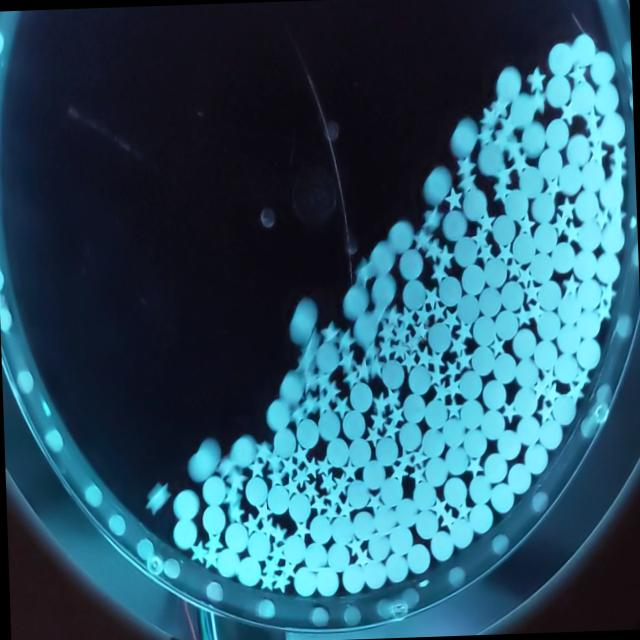disco blanco: (186, 436, 218, 482), (289, 295, 320, 340), (449, 117, 482, 158), (520, 120, 548, 158), (438, 207, 468, 242), (424, 165, 452, 202), (546, 40, 576, 74), (278, 369, 304, 407), (341, 284, 368, 320), (264, 394, 290, 431), (379, 356, 406, 391), (352, 312, 378, 348), (172, 516, 202, 547), (544, 74, 571, 108), (538, 146, 566, 178), (370, 240, 396, 274), (398, 245, 424, 279), (496, 66, 522, 100), (543, 118, 570, 150), (397, 419, 424, 451), (508, 92, 534, 125), (388, 216, 413, 250), (437, 272, 462, 306), (476, 144, 501, 178), (400, 278, 428, 308), (371, 272, 397, 304), (404, 365, 432, 394), (482, 256, 508, 287), (478, 283, 502, 316), (315, 342, 341, 372), (480, 410, 506, 440), (360, 460, 386, 490), (231, 434, 255, 466), (539, 417, 562, 450), (461, 264, 486, 294), (424, 398, 449, 428), (223, 521, 248, 551), (348, 381, 372, 412), (174, 487, 198, 518), (516, 415, 540, 446), (200, 474, 223, 506), (246, 532, 272, 560), (494, 310, 518, 340), (286, 494, 310, 524), (402, 392, 424, 424), (272, 429, 296, 458), (516, 359, 539, 389), (204, 504, 226, 534), (218, 548, 240, 578), (297, 416, 317, 448), (344, 409, 364, 440), (332, 516, 354, 544)
estrella blanca: (144, 480, 170, 514), (334, 342, 360, 372), (334, 324, 358, 353), (524, 64, 546, 94), (318, 318, 340, 346), (202, 528, 224, 556), (542, 170, 564, 198), (422, 204, 446, 229), (514, 210, 536, 237), (454, 154, 478, 178), (518, 278, 540, 304), (457, 170, 478, 197), (490, 92, 510, 120), (476, 206, 496, 234), (340, 456, 360, 484), (455, 317, 475, 344), (424, 237, 446, 261), (566, 61, 587, 86), (454, 346, 474, 372), (555, 195, 575, 221), (429, 258, 448, 285), (510, 150, 529, 177), (491, 178, 512, 202), (332, 392, 351, 418), (354, 258, 372, 285), (254, 438, 272, 465), (385, 404, 406, 427), (412, 226, 432, 250), (220, 483, 240, 507), (557, 101, 577, 125), (499, 112, 518, 137), (247, 454, 266, 479), (367, 409, 388, 431), (436, 247, 456, 270), (376, 336, 396, 359), (290, 466, 310, 489), (254, 497, 273, 521), (293, 516, 312, 540), (446, 185, 464, 210), (353, 357, 371, 382), (480, 106, 498, 130), (227, 467, 245, 491), (300, 392, 318, 416), (224, 503, 244, 524), (314, 454, 332, 477), (266, 468, 284, 490), (370, 394, 387, 417), (384, 386, 400, 410)
